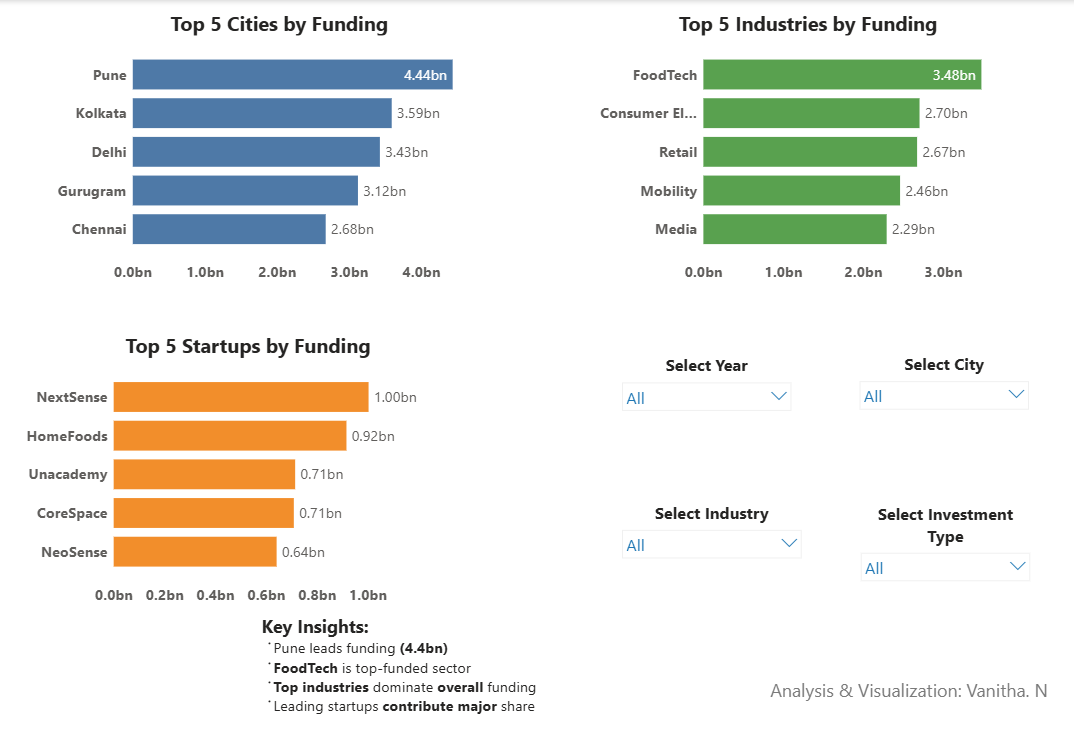

The page's visual inventory and layout, read from the dashboard file:
{"tool":"powerbi","page":{"name":"Page 2","canvas":[1600,1200],"ordinal":1},"visuals":[{"type":"clusteredBarChart","title":"Top 5 Cities by Funding","fields":{"Category":["FullDataset.City"],"Y":["FullDataset.Total Funding"]},"box":[66.7,25.9,700,450],"z":0},{"type":"clusteredBarChart","title":"Top 5 Industries by Funding","fields":{"Category":["FullDataset.Industry"],"Y":["FullDataset.Total Funding"]},"box":[850,25.9,700,450],"z":1000},{"type":"clusteredBarChart","title":"Top 5 Startups by Funding","fields":{"Category":["FullDataset.Startup"],"Y":["FullDataset.Total Funding"]},"box":[20.3,503.4,700,450],"z":2000},{"type":"slicer","title":"Select Year","fields":{"Values":["FullDataset.Year"]},"box":[900,536.7,300,180],"z":3000},{"type":"slicer","title":"Select City","fields":{"Values":["FullDataset.City"]},"box":[1252.5,535.6,300,180],"z":4000},{"type":"slicer","title":"Select Industry","fields":{"Values":["FullDataset.Industry"]},"box":[900,755.9,300,180],"z":5000},{"type":"slicer","title":"Select Investment Type","fields":{"Values":["FullDataset.InvestmentType"]},"box":[1253.3,756.7,300,180],"z":6000},{"type":"textbox","box":[385.2,937,450,183.3],"z":7001},{"type":"textbox","box":[1138.9,1031.5,431.5,48.1],"z":7002}]}

Visuals, with their boxes on the page's 1600x1200 design canvas (x1, y1, x2, y2). These are canvas units, not pixel positions in the 1074x743 screenshot, which may show the page scaled, cropped or inside an application window:
"Top 5 Cities by Funding" clusteredBarChart: {"left": 67, "top": 26, "right": 767, "bottom": 476}
"Top 5 Industries by Funding" clusteredBarChart: {"left": 850, "top": 26, "right": 1550, "bottom": 476}
"Top 5 Startups by Funding" clusteredBarChart: {"left": 20, "top": 503, "right": 720, "bottom": 953}
"Select Year" slicer: {"left": 900, "top": 537, "right": 1200, "bottom": 717}
"Select City" slicer: {"left": 1252, "top": 536, "right": 1552, "bottom": 716}
"Select Industry" slicer: {"left": 900, "top": 756, "right": 1200, "bottom": 936}
"Select Investment Type" slicer: {"left": 1253, "top": 757, "right": 1553, "bottom": 937}
textbox: {"left": 385, "top": 937, "right": 835, "bottom": 1120}
textbox: {"left": 1139, "top": 1032, "right": 1570, "bottom": 1080}
